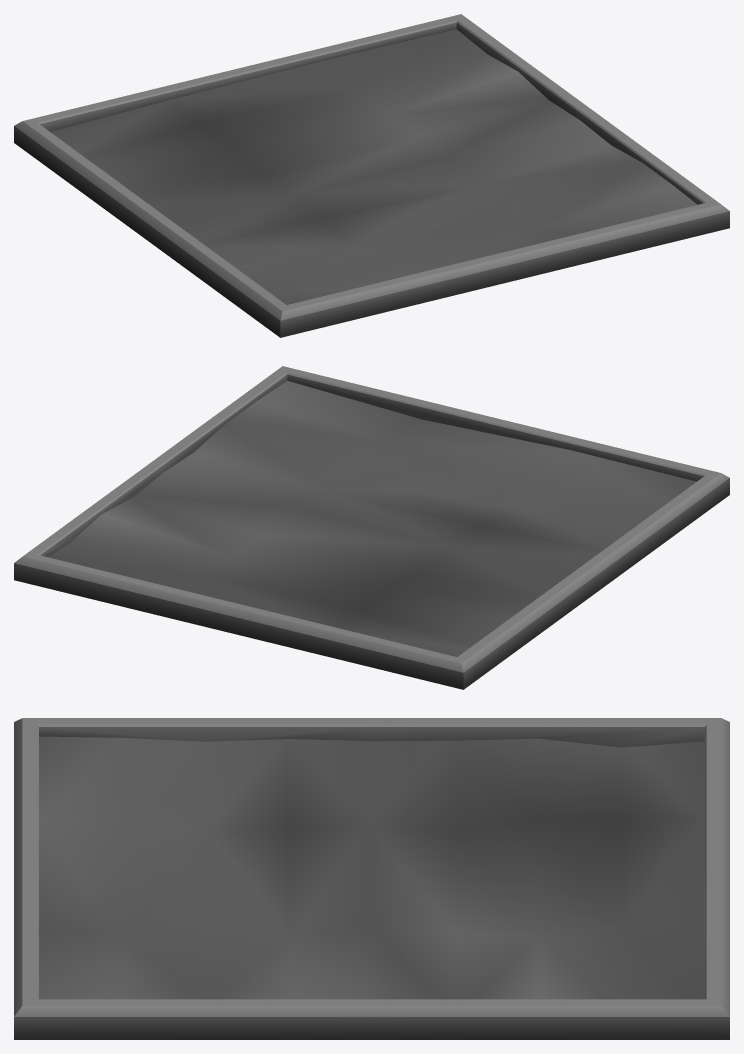
The model's file is FarmPlotSquare3_MESH_01.fbx.
3 views of the same model, one above another, from view 1: azimuth 30°, elevation 25°; view 2: azimuth 150°, elevation 25°; view 3: azimuth 270°, elevation 25° (orthographic). The views are drawn at different scales.
Visible parts, largest first — view 1: FarmPlotSquare3_MESH_01; view 2: FarmPlotSquare3_MESH_01; view 3: FarmPlotSquare3_MESH_01.
Boxes of the visible parts, x1,y1,x2,y2 form: FarmPlotSquare3_MESH_01: (14,14,729,337); FarmPlotSquare3_MESH_01: (14,366,729,689); FarmPlotSquare3_MESH_01: (14,718,729,1039).
Bounding box in the file's own units: 1193 × 57.78 × 1224.
